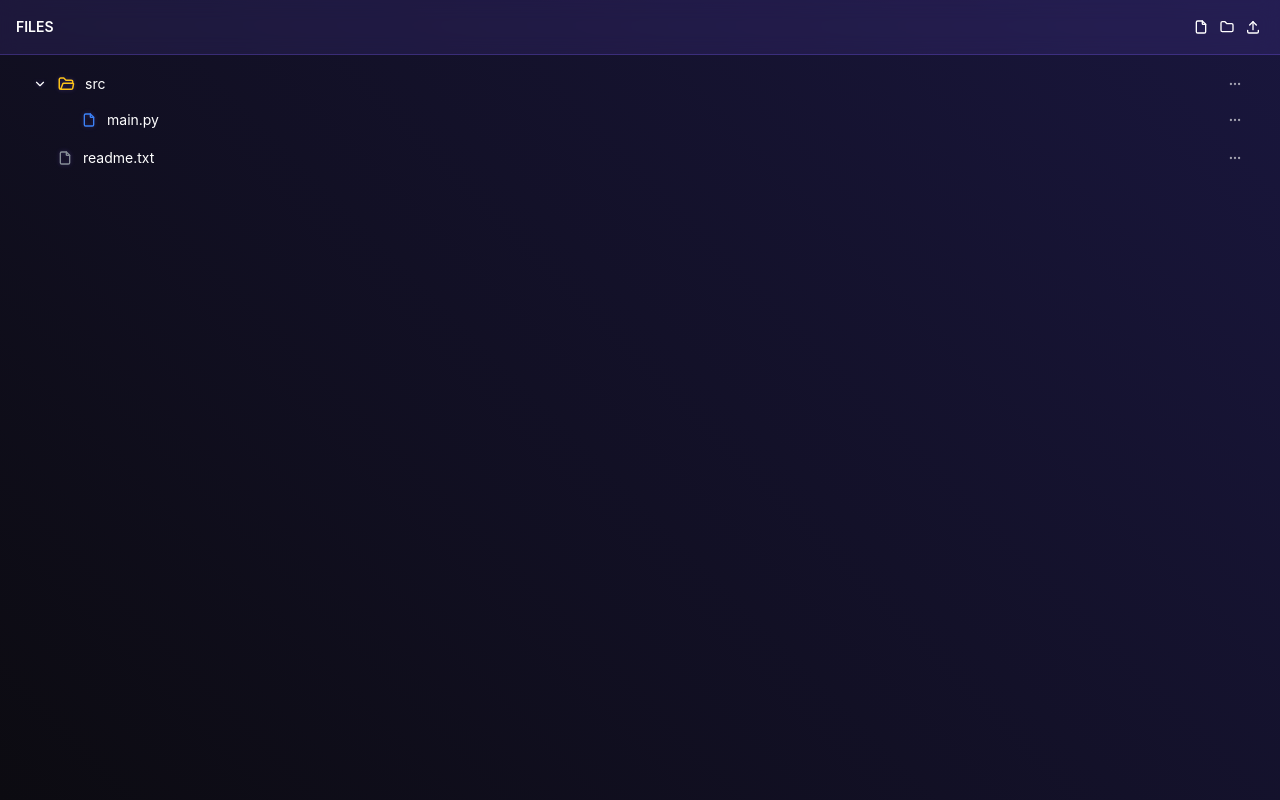
Test case: FileExplorer Component tests › should open Create File popup when New File header button clicked
The width and height of the screenshot is (1280, 800).
Click the button titled "New File".
click(1201, 27)  # box [1190,16,1212,38]
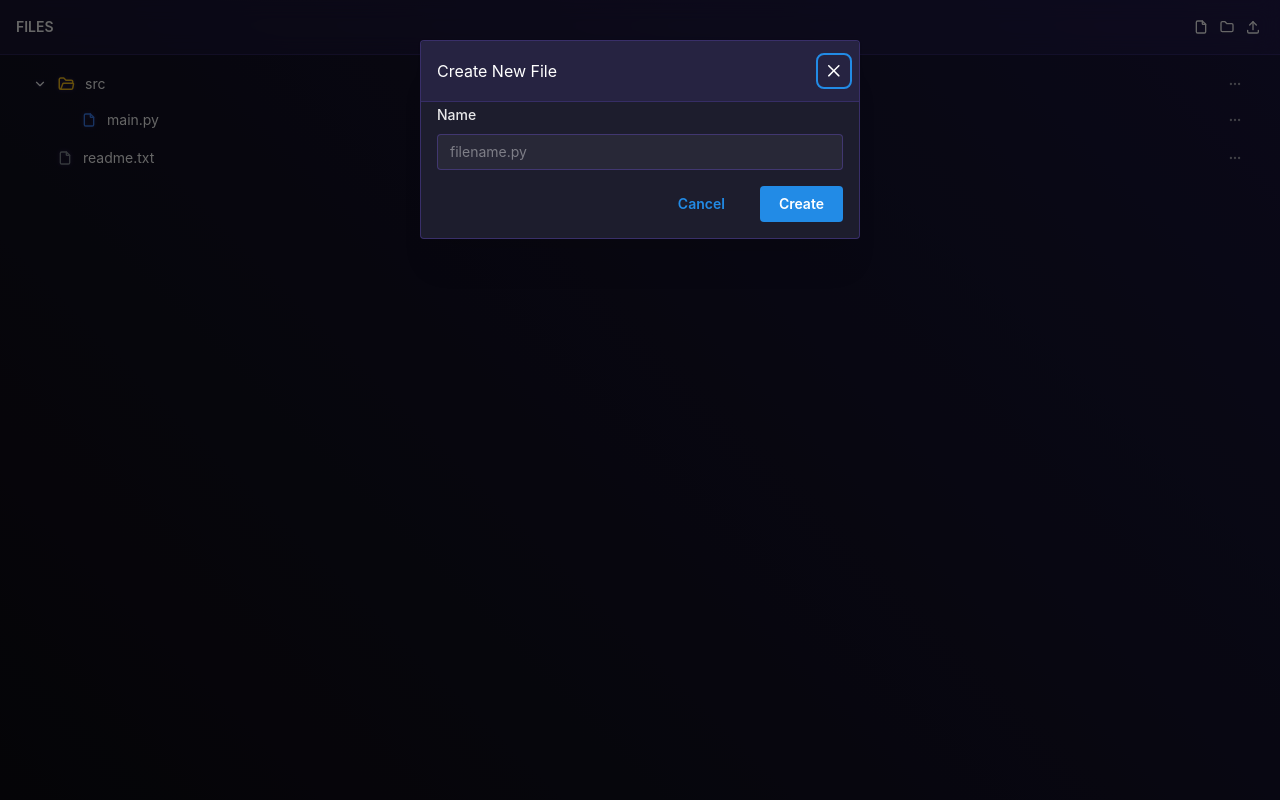
expect the heading "Create New File" is shown: met, box [437,63,557,79]
